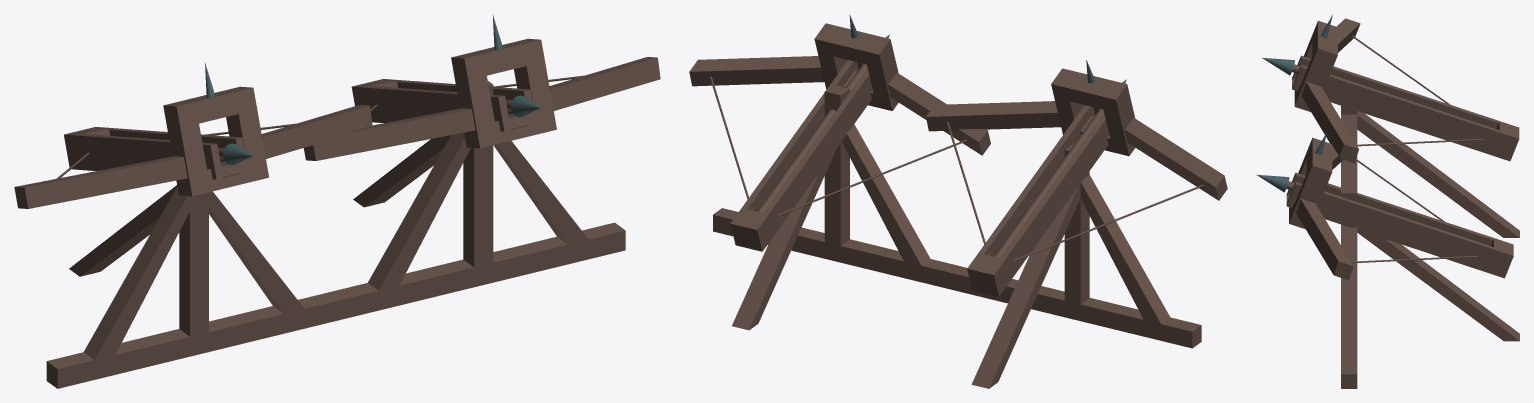
The model's file is Balista0_1.fbx.
3 renders of one model, left to right at view 1: azimuth 30°, elevation 25°; view 2: azimuth 150°, elevation 25°; view 3: azimuth 270°, elevation 25°, orthographic. The views are drawn at different scales.
Visible parts, largest first — view 1: Cube.002, Cube.007, Cone.002, Cone.003; view 2: Cone.002, Cone.003, Cube.002, Cube.007, Cone.001, Cone; view 3: Cone.002, Cone.003, Cube.007, Cube.002, Cone, Cone.001.
Boxes of the visible parts, <box> form: Cube.002: <box>46,185,341,388</box>; Cube.007: <box>331,81,625,319</box>; Cone.002: <box>14,63,372,208</box>; Cone.003: <box>303,14,660,160</box>; Cone.002: <box>926,60,1227,296</box>; Cone.003: <box>689,14,990,251</box>; Cube.002: <box>952,143,1201,388</box>; Cube.007: <box>713,85,961,330</box>; Cone.001: <box>994,79,1126,257</box>; Cone: <box>757,34,889,212</box>; Cone.002: <box>1292,14,1519,163</box>; Cone.003: <box>1286,132,1513,280</box>; Cube.007: <box>1341,186,1519,388</box>; Cube.002: <box>1341,106,1519,237</box>; Cone: <box>1256,174,1294,192</box>; Cone.001: <box>1262,58,1300,75</box>.
Size of the model in its own units: 664 by 299 by 324.
